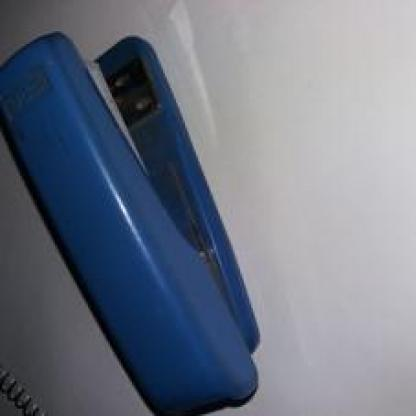stapler: (6, 20, 281, 406)
